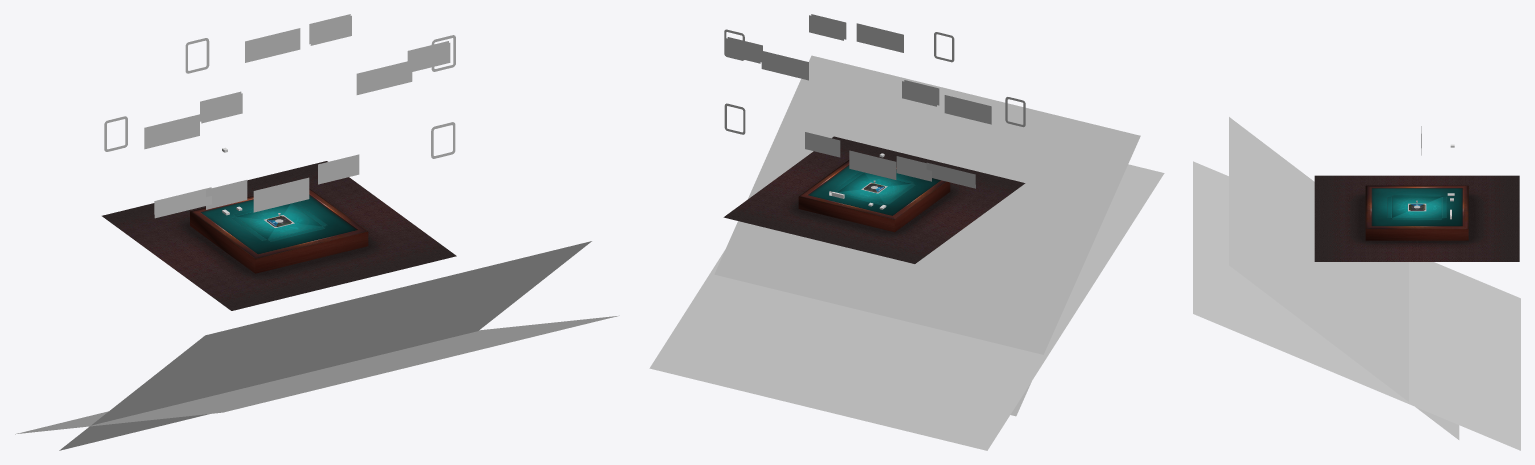
The model's file is SceneRoot_48_48_1835.fbx.
The picture shows the model from 3 angles, left to right: view 1: azimuth 30°, elevation 25°; view 2: azimuth 150°, elevation 25°; view 3: azimuth 270°, elevation 25°; orthographic projection. The views are drawn at different scales.
Parts seen in each view (by area): view 1: Plane (×2), Carpet, MahjongTable, Back2 (×4), Beans_liuguang (×4), liuguang2, Fen_liuguang2; view 2: Plane (×2), Carpet, MahjongTable, Back2 (×4), Fen_liuguang2 (×4), liuguang2, Beans_liuguang; view 3: Plane (×2), Carpet, MahjongTable.
Part boxes in pixels (x1,y1,x2,y2): Plane (×2): [15, 241, 619, 450]; Carpet: [102, 161, 456, 310]; MahjongTable: [190, 188, 368, 273]; Back2 (×4): [144, 28, 412, 212]; Beans_liuguang (×4): [201, 15, 450, 184]; liuguang2: [154, 187, 211, 218]; Fen_liuguang2: [206, 180, 247, 209]; Plane (×2): [649, 55, 1164, 450]; Carpet: [723, 136, 1025, 263]; MahjongTable: [798, 160, 950, 232]; Back2 (×4): [761, 23, 991, 179]; Fen_liuguang2 (×4): [725, 15, 936, 181]; liuguang2: [926, 162, 975, 188]; Beans_liuguang: [805, 132, 840, 157]; Plane (×2): [1193, 117, 1520, 450]; Carpet: [1314, 175, 1519, 261]; MahjongTable: [1365, 185, 1468, 240].
Size of the model in its own units: 4 by 3.98 by 3.63.
